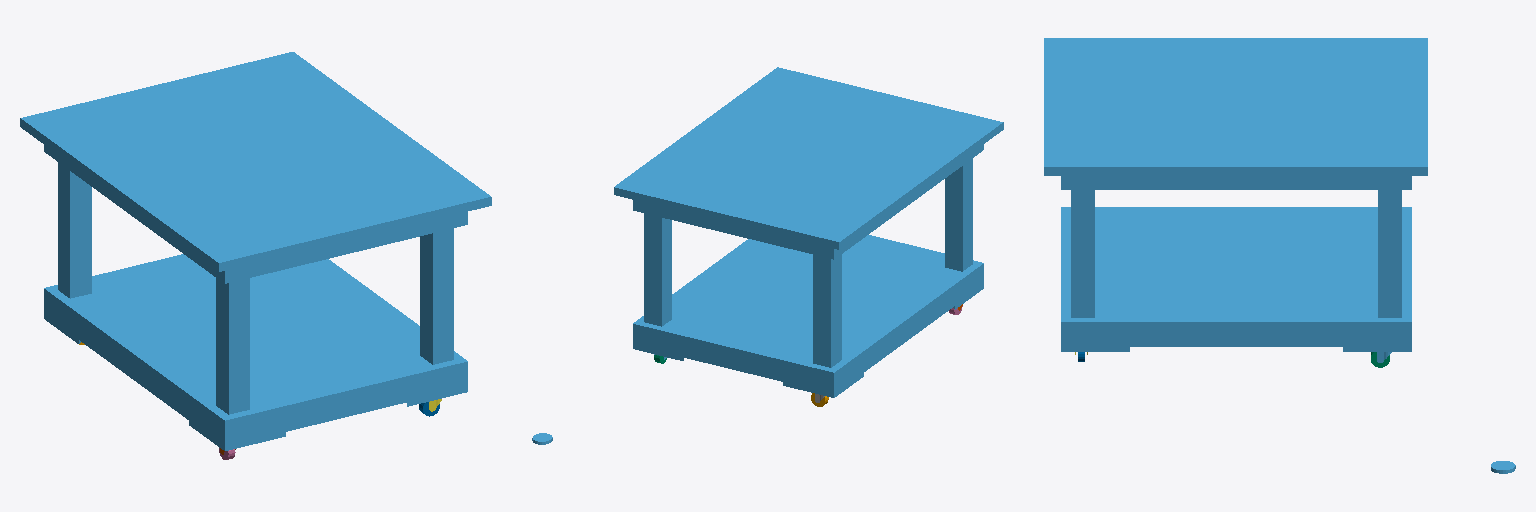
The robot description file, URDF, robot "partnet_138c29cb642dcd6352620f29156438e2":
<?xml version="1.0" ?>
<robot name="partnet_138c29cb642dcd6352620f29156438e2">
	<link name="base"/>
	<link name="link_0">
		<visual name="caster_stem-22">
			<origin xyz="0.606799069797977 0 0.46982091460933856"/>
			<geometry>
				<mesh filename="textured_objs/original-37.obj" scale="0.4 0.4 0.4" />
			</geometry>
		</visual>
		<visual name="caster_stem-22">
			<origin xyz="0.606799069797977 0 0.46982091460933856"/>
			<geometry>
				<mesh filename="textured_objs/original-38.obj" scale="0.7 0.7 0.7" />
			</geometry>
		</visual>
		<collision>
			<origin xyz="0.606799069797977 0 0.46982091460933856"/>
			<geometry>
				<mesh filename="textured_objs/original-37.obj" scale="0.4 0.4 0.4" />
			</geometry>
		</collision>
		<collision>
			<origin xyz="0.606799069797977 0 0.46982091460933856"/>
			<geometry>
				<mesh filename="textured_objs/original-38.obj" scale="0.4 0.4 0.4" />
			</geometry>
		</collision>
	</link>
	<joint name="joint_0" type="fixed">
		<origin xyz="-0.606799069797977 0 -0.46982091460933856"/>
		<axis xyz="0 1 0"/>
		<child link="link_0"/>
		<parent link="link_8"/>
	</joint>
	<link name="link_1">
		<visual name="wheel-23">
			<origin xyz="0.5753904999999999 0.5511784999999999 0"/>
			<geometry>
				<mesh filename="textured_objs/original-36.obj" scale="0.4 0.4 0.4" />
			</geometry>
		</visual>
		<collision>
			<origin xyz="0.5753904999999999 0.5511784999999999 0"/>
			<geometry>
				<mesh filename="textured_objs/original-36.obj" scale="0.4 0.4 0.4" />
			</geometry>
		</collision>
	</link>
	<joint name="joint_1" type="fixed">
		<origin xyz="0.031408569797977126 -0.5511784999999999 0.46982091460933856"/>
		<axis xyz="0 0 1"/>
		<child link="link_1"/>
		<parent link="link_0"/>
	</joint>
	<link name="link_2">
		<visual name="caster_stem-20">
			<origin xyz="-0.6015289615053332 0 0.45847411478613603"/>
			<geometry>
				<mesh filename="textured_objs/original-28.obj" scale="0.4 0.4 0.4" />
			</geometry>
		</visual>
		<visual name="caster_stem-20">
			<origin xyz="-0.6015289615053332 0 0.45847411478613603"/>
			<geometry>
				<mesh filename="textured_objs/original-29.obj" scale="0.4 0.4 0.4" />
			</geometry>
		</visual>
		<collision>
			<origin xyz="-0.6015289615053332 0 0.45847411478613603"/>
			<geometry>
				<mesh filename="textured_objs/original-28.obj" scale="0.4 0.4 0.4" />
			</geometry>
		</collision>
		<collision>
			<origin xyz="-0.6015289615053332 0 0.45847411478613603"/>
			<geometry>
				<mesh filename="textured_objs/original-29.obj" scale="0.4 0.4 0.4" />
			</geometry>
		</collision>
	</link>
	<joint name="joint_2" type="fixed">
		<origin xyz="0.6015289615053332 0 -0.45847411478613603"/>
		<axis xyz="0 1 0"/>
		<child link="link_2"/>
		<parent link="link_8"/>
	</joint>
	<link name="link_3">
		<visual name="wheel-21">
			<origin xyz="-0.6243054491276966 0.5514421963839776 0.42814229096345746"/>
			<geometry>
				<mesh filename="textured_objs/original-27.obj" scale="0.4 0.4 0.4" />
			</geometry>
		</visual>
		<collision>
			<origin xyz="-0.6243054491276966 0.5514421963839776 0.42814229096345746"/>
			<geometry>
				<mesh filename="textured_objs/original-27.obj" scale="0.4 0.4 0.4" />
			</geometry>
		</collision>
	</link>
	<joint name="joint_3" type="fixed">
		<origin xyz="0.022776487622363395 -0.5514421963839776 0.030331823822678572"/>
		<axis xyz="0.9999999993838132 6.0259324194091366e-06 -3.458412586590247e-05"/>
		<child link="link_3"/>
		<parent link="link_2"/>
	</joint>
	<link name="link_4">
		<visual name="caster_stem-18">
			<origin xyz="-0.5901816443331189 0 -0.43996147110157713"/>
			<geometry>
				<mesh filename="textured_objs/original-21.obj" scale="0.4 0.4 0.4" />
			</geometry>
		</visual>
		<visual name="caster_stem-18">
			<origin xyz="-0.5901816443331189 0 -0.43996147110157713"/>
			<geometry>
				<mesh filename="textured_objs/original-20.obj" scale="0.4 0.4 0.4" />
			</geometry>
		</visual>
		<collision>
			<origin xyz="-0.5901816443331189 0 -0.43996147110157713"/>
			<geometry>
				<mesh filename="textured_objs/original-21.obj" scale="0.4 0.4 0.4" />
			</geometry>
		</collision>
		<collision>
			<origin xyz="-0.5901816443331189 0 -0.43996147110157713"/>
			<geometry>
				<mesh filename="textured_objs/original-20.obj" scale="0.4 0.4 0.4" />
			</geometry>
		</collision>
	</link>
	<joint name="joint_4" type="fixed">
		<origin xyz="0.5901816443331189 0 0.43996147110157713"/>
		<axis xyz="0 1 0"/>
		<child link="link_4"/>
		<parent link="link_8"/>
	</joint>
	<link name="link_5">
		<visual name="wheel-19">
			<origin xyz="-0.5587737868012876 0.5511784999999999 0"/>
			<geometry>
				<mesh filename="textured_objs/original-19.obj" scale="0.4 0.4 0.4" />
			</geometry>
		</visual>
		<collision>
			<origin xyz="-0.5587737868012876 0.5511784999999999 0"/>
			<geometry>
				<mesh filename="textured_objs/original-19.obj" scale="0.4 0.4 0.4" />
			</geometry>
		</collision>
	</link>
	<joint name="joint_5" type="fixed">
		<origin xyz="-0.031407857531831285 -0.5511784999999999 -0.43996147110157713"/>
		<axis xyz="0 0 -1"/>
		<child link="link_5"/>
		<parent link="link_4"/>
	</joint>
	<link name="link_6">
		<visual name="caster_stem-16">
			<origin xyz="0.6181829999999999 0 -0.42662500000000003"/>
			<geometry>
				<mesh filename="textured_objs/original-45.obj" scale="0.4 0.4 0.4" />
			</geometry>
		</visual>
		<visual name="caster_stem-16">
			<origin xyz="0.6181829999999999 0 -0.42662500000000003"/>
			<geometry>
				<mesh filename="textured_objs/original-46.obj" scale="0.4 0.4 0.4" />
			</geometry>
		</visual>
		<collision>
			<origin xyz="0.6181829999999999 0 -0.42662500000000003"/>
			<geometry>
				<mesh filename="textured_objs/original-45.obj" scale="0.4 0.4 0.4" />
			</geometry>
		</collision>
		<collision>
			<origin xyz="0.6181829999999999 0 -0.42662500000000003"/>
			<geometry>
				<mesh filename="textured_objs/original-46.obj" scale="0.4 0.4 0.4" />
			</geometry>
		</collision>
	</link>
	<joint name="joint_6" type="fixed">
		<origin xyz="-0.6181829999999999 0 0.42662500000000003"/>
		<axis xyz="0 1 0"/>
		<child link="link_6"/>
		<parent link="link_8"/>
	</joint>
	<link name="link_7">
		<visual name="wheel-17">
			<origin xyz="0.640922 0.5512141919173537 -0.39798255958692286"/>
			<geometry>
				<mesh filename="textured_objs/original-44.obj" scale="0.4 0.4 0.4" />
			</geometry>
		</visual>
		<collision>
			<origin xyz="0.640922 0.5512141919173537 -0.39798255958692286"/>
			<geometry>
				<mesh filename="textured_objs/original-44.obj" scale="0.4 0.4 0.4" />
			</geometry>
		</collision>
	</link>
	<joint name="joint_7" type="fixed">
		<origin xyz="-0.022739000000000065 -0.5512141919173537 -0.028642440413077175"/>
		<axis xyz="1 0 0"/>
		<child link="link_7"/>
		<parent link="link_6"/>
	</joint>
	<link name="link_8">
		<visual name="board-40">
			<origin xyz="0 0 0"/>
			<geometry>
				<mesh filename="textured_objs/original-51.obj" scale="0.4 0.4 0.4" />
			</geometry>
		</visual>
		<visual name="board-40">
			<origin xyz="0 0 0"/>
			<geometry>
				<mesh filename="textured_objs/original-50.obj" scale="0.4 0.4 0.4" />
			</geometry>
		</visual>
		<visual name="vertical_divider_panel-7">
			<origin xyz="0 0 0"/>
			<geometry>
				<mesh filename="textured_objs/original-11.obj" scale="0.4 0.4 0.4" />
			</geometry>
		</visual>
		<visual name="leg-8">
			<origin xyz="0 0 0"/>
			<geometry>
				<mesh filename="textured_objs/original-4.obj" scale="0.4 0.4 0.4" />
			</geometry>
		</visual>
		<visual name="leg-9">
			<origin xyz="0 0 0"/>
			<geometry>
				<mesh filename="textured_objs/original-3.obj" scale="0.4 0.4 0.4" />
			</geometry>
		</visual>
		<visual name="leg-10">
			<origin xyz="0 0 0"/>
			<geometry>
				<mesh filename="textured_objs/original-2.obj" scale="0.4 0.4 0.4" />
			</geometry>
		</visual>
		<visual name="leg-11">
			<origin xyz="0 0 0"/>
			<geometry>
				<mesh filename="textured_objs/original-5.obj" scale="0.4 0.4 0.4" />
			</geometry>
		</visual>
		<visual name="shelf-24">
			<origin xyz="0 0 0"/>
			<geometry>
				<mesh filename="textured_objs/original-13.obj" scale="0.4 0.4 0.4" />
			</geometry>
		</visual>
		<visual name="base_side_panel-25">
			<origin xyz="0 0 0"/>
			<geometry>
				<mesh filename="textured_objs/original-10.obj" scale="0.4 0.4 0.4" />
			</geometry>
		</visual>
		<visual name="base_side_panel-26">
			<origin xyz="0 0 0"/>
			<geometry>
				<mesh filename="textured_objs/original-12.obj" scale="0.4 0.4 0.4" />
			</geometry>
		</visual>
		<visual name="base_side_panel-27">
			<origin xyz="0 0 0"/>
			<geometry>
				<mesh filename="textured_objs/original-9.obj" scale="0.4 0.4 0.4" />
			</geometry>
		</visual>
		<visual name="base_side_panel-28">
			<origin xyz="0 0 0"/>
			<geometry>
				<mesh filename="textured_objs/original-8.obj" scale="0.4 0.4 0.4" />
			</geometry>
		</visual>
		<visual name="tabletop_connector-29">
			<origin xyz="0 0 0"/>
			<geometry>
				<mesh filename="textured_objs/original-58.obj" scale="0.4 0.4 0.4" />
			</geometry>
		</visual>
		<visual name="tabletop_connector-30">
			<origin xyz="0 0 0"/>
			<geometry>
				<mesh filename="textured_objs/original-56.obj" scale="0.4 0.4 0.4" />
			</geometry>
		</visual>
		<visual name="tabletop_connector-31">
			<origin xyz="0 0 0"/>
			<geometry>
				<mesh filename="textured_objs/original-54.obj" scale="0.4 0.4 0.4" />
			</geometry>
		</visual>
		<visual name="tabletop_connector-32">
			<origin xyz="0 0 0"/>
			<geometry>
				<mesh filename="textured_objs/original-53.obj" scale="0.4 0.4 0.4" />
			</geometry>
		</visual>
		<visual name="tabletop_connector-33">
			<origin xyz="0 0 0"/>
			<geometry>
				<mesh filename="textured_objs/original-57.obj" scale="0.4 0.4 0.4" />
			</geometry>
		</visual>
		<visual name="tabletop_connector-34">
			<origin xyz="0 0 0"/>
			<geometry>
				<mesh filename="textured_objs/original-55.obj" scale="0.4 0.4 0.4" />
			</geometry>
		</visual>
		<visual name="bottom_panel-35">
			<origin xyz="0 0 0"/>
			<geometry>
				<mesh filename="textured_objs/original-40.obj" scale="0.4 0.4 0.4" />
			</geometry>
		</visual>
		<visual name="bottom_panel-36">
			<origin xyz="0 0 0"/>
			<geometry>
				<mesh filename="textured_objs/original-48.obj" scale="0.4 0.4 0.4" />
			</geometry>
		</visual>
		<visual name="bottom_panel-37">
			<origin xyz="0 0 0"/>
			<geometry>
				<mesh filename="textured_objs/original-23.obj" scale="0.4 0.4 0.4" />
			</geometry>
		</visual>
		<visual name="bottom_panel-38">
			<origin xyz="0 0 0"/>
			<geometry>
				<mesh filename="textured_objs/original-30.obj" scale="0.4 0.4 0.4" />
			</geometry>
		</visual>
		<visual name="bottom_panel-38">
			<origin xyz="0 0 0"/>
			<geometry>
				<mesh filename="textured_objs/original-31.obj" scale="0.4 0.4 0.4" />
			</geometry>
		</visual>
		<collision>
			<origin xyz="0 0 0"/>
			<geometry>
				<mesh filename="textured_objs/original-51.obj" scale="0.4 0.4 0.4" />
			</geometry>
		</collision>
		<collision>
			<origin xyz="0 0 0"/>
			<geometry>
				<mesh filename="textured_objs/original-50.obj" scale="0.4 0.4 0.4" />
			</geometry>
		</collision>
		<collision>
			<origin xyz="0 0 0"/>
			<geometry>
				<mesh filename="textured_objs/original-11.obj" scale="0.4 0.4 0.4" />
			</geometry>
		</collision>
		<collision>
			<origin xyz="0 0 0"/>
			<geometry>
				<mesh filename="textured_objs/original-4.obj" scale="0.4 0.4 0.4" />
			</geometry>
		</collision>
		<collision>
			<origin xyz="0 0 0"/>
			<geometry>
				<mesh filename="textured_objs/original-3.obj" scale="0.4 0.4 0.4" />
			</geometry>
		</collision>
		<collision>
			<origin xyz="0 0 0"/>
			<geometry>
				<mesh filename="textured_objs/original-2.obj" scale="0.4 0.4 0.4" />
			</geometry>
		</collision>
		<collision>
			<origin xyz="0 0 0"/>
			<geometry>
				<mesh filename="textured_objs/original-5.obj" scale="0.4 0.4 0.4" />
			</geometry>
		</collision>
		<collision>
			<origin xyz="0 0 0"/>
			<geometry>
				<mesh filename="textured_objs/original-13.obj" scale="0.4 0.4 0.4" />
			</geometry>
		</collision>
		<collision>
			<origin xyz="0 0 0"/>
			<geometry>
				<mesh filename="textured_objs/original-10.obj" scale="0.4 0.4 0.4" />
			</geometry>
		</collision>
		<collision>
			<origin xyz="0 0 0"/>
			<geometry>
				<mesh filename="textured_objs/original-12.obj" scale="0.4 0.4 0.4" />
			</geometry>
		</collision>
		<collision>
			<origin xyz="0 0 0"/>
			<geometry>
				<mesh filename="textured_objs/original-9.obj" scale="0.4 0.4 0.4" />
			</geometry>
		</collision>
		<collision>
			<origin xyz="0 0 0"/>
			<geometry>
				<mesh filename="textured_objs/original-8.obj" scale="0.4 0.4 0.4" />
			</geometry>
		</collision>
		<collision>
			<origin xyz="0 0 0"/>
			<geometry>
				<mesh filename="textured_objs/original-58.obj" scale="0.4 0.4 0.4" />
			</geometry>
		</collision>
		<collision>
			<origin xyz="0 0 0"/>
			<geometry>
				<mesh filename="textured_objs/original-56.obj" scale="0.4 0.4 0.4" />
			</geometry>
		</collision>
		<collision>
			<origin xyz="0 0 0"/>
			<geometry>
				<mesh filename="textured_objs/original-54.obj" scale="0.4 0.4 0.4" />
			</geometry>
		</collision>
		<collision>
			<origin xyz="0 0 0"/>
			<geometry>
				<mesh filename="textured_objs/original-53.obj" scale="0.4 0.4 0.4" />
			</geometry>
		</collision>
		<collision>
			<origin xyz="0 0 0"/>
			<geometry>
				<mesh filename="textured_objs/original-57.obj" scale="0.4 0.4 0.4" />
			</geometry>
		</collision>
		<collision>
			<origin xyz="0 0 0"/>
			<geometry>
				<mesh filename="textured_objs/original-55.obj" scale="0.4 0.4 0.4" />
			</geometry>
		</collision>
		<collision>
			<origin xyz="0 0 0"/>
			<geometry>
				<mesh filename="textured_objs/original-40.obj" scale="0.4 0.4 0.4" />
			</geometry>
		</collision>
		<collision>
			<origin xyz="0 0 0"/>
			<geometry>
				<mesh filename="textured_objs/original-48.obj" scale="0.4 0.4 0.4" />
			</geometry>
		</collision>
		<collision>
			<origin xyz="0 0 0"/>
			<geometry>
				<mesh filename="textured_objs/original-23.obj" scale="0.4 0.4 0.4" />
			</geometry>
		</collision>
		<collision>
			<origin xyz="0 0 0"/>
			<geometry>
				<mesh filename="textured_objs/original-30.obj" scale="0.4 0.4 0.4" />
			</geometry>
		</collision>
		<collision>
			<origin xyz="0 0 0"/>
			<geometry>
				<mesh filename="textured_objs/original-31.obj" scale="0.4 0.4 0.4" />
			</geometry>
		</collision>
	</link>
	<joint name="joint_8" type="fixed">
		<origin rpy="1.570796326794897 0 -1.570796326794897" xyz="0 0 0"/>
		<child link="link_8"/>
		<parent link="base"/>
	</joint>
</robot>

--- Render facts (derived) ---
3 views of the same robot in one strip: view 1: azimuth 30°, elevation 25°; view 2: azimuth 150°, elevation 25°; view 3: azimuth 270°, elevation 25° (orthographic).
Robot: partnet_138c29cb642dcd6352620f29156438e2 — 10 links, 9 joints (9 fixed); root link base; default pose: all joints at 0.
Links seen in each view (by area): view 1: link_8; view 2: link_8; view 3: link_8.
Boxes of the visible links, <box> form: link_8: <box>20,52,491,450</box>; link_8: <box>614,67,1003,397</box>; link_8: <box>1044,38,1427,351</box>.
Size in the robot's own frame: 0.5813 by 0.7418 by 0.4861 metres.
Meshes: 35 distinct files referenced, 35 mesh visuals loaded (35 OBJ).